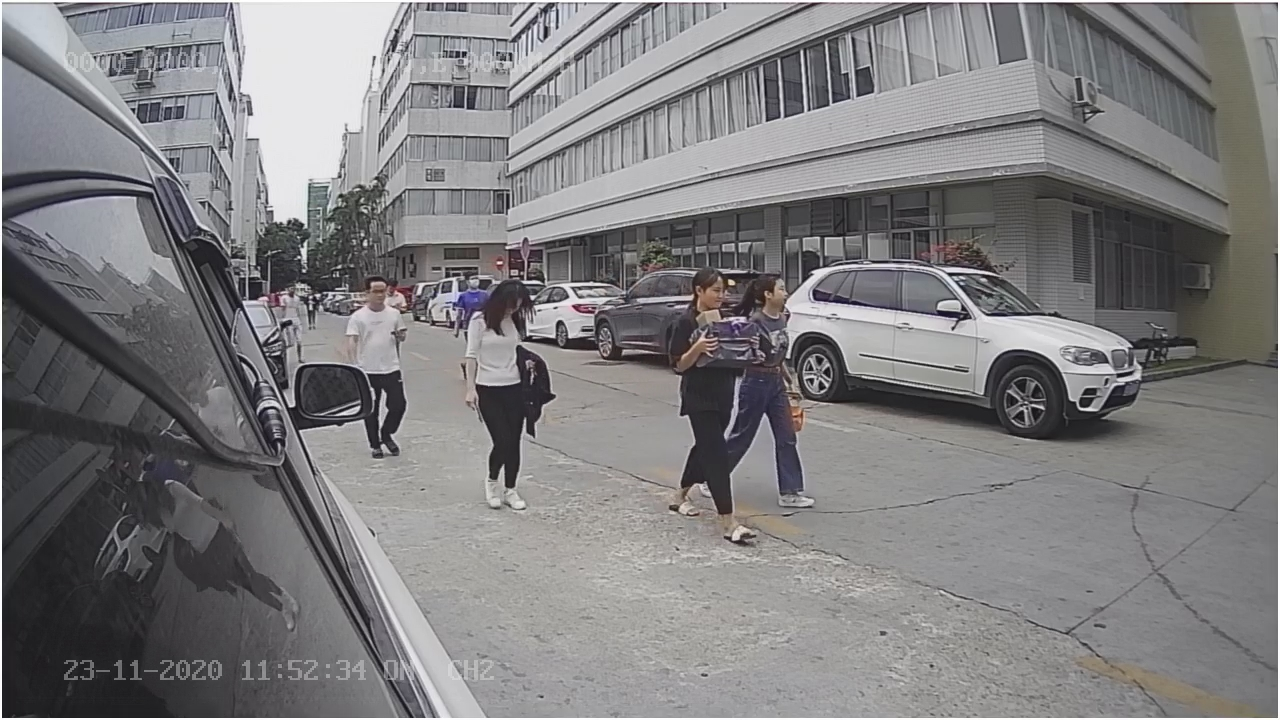person: (674, 269, 742, 562), (471, 279, 541, 508)
